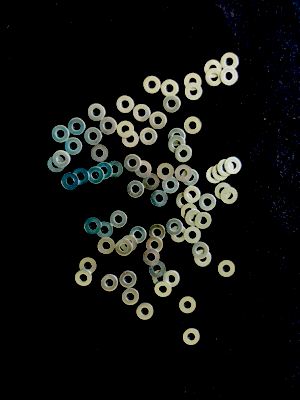circle: (217, 258, 237, 280), (135, 302, 157, 321), (182, 328, 202, 348), (219, 67, 240, 86), (122, 287, 141, 307), (119, 270, 138, 290), (79, 255, 98, 275), (181, 168, 201, 187), (184, 116, 203, 136), (90, 144, 109, 164), (178, 295, 196, 316), (190, 241, 209, 260), (83, 217, 102, 236), (134, 160, 153, 179), (95, 162, 114, 181), (67, 117, 86, 136), (87, 103, 106, 122), (99, 117, 118, 136), (153, 281, 173, 299), (175, 192, 195, 210), (206, 164, 224, 184), (157, 162, 175, 182), (72, 167, 90, 187), (175, 144, 193, 164), (161, 79, 179, 99), (142, 76, 160, 96), (203, 60, 223, 78), (100, 274, 119, 292), (74, 269, 92, 288), (162, 270, 181, 288), (148, 261, 167, 279), (194, 250, 212, 269), (184, 226, 202, 245), (97, 237, 116, 255), (95, 222, 114, 240), (129, 226, 147, 245), (109, 211, 128, 229), (150, 190, 168, 209), (143, 173, 161, 192), (123, 154, 141, 173), (106, 160, 124, 179), (52, 151, 71, 169), (51, 125, 70, 143), (85, 127, 103, 146), (122, 130, 141, 148), (139, 128, 158, 146), (133, 103, 152, 121), (163, 96, 182, 114), (220, 52, 239, 70), (218, 157, 235, 177), (167, 128, 187, 145), (62, 171, 78, 192), (147, 224, 165, 242), (185, 209, 203, 227), (47, 156, 65, 174), (117, 95, 135, 113), (149, 112, 167, 130), (185, 83, 203, 101), (183, 73, 201, 91), (145, 237, 164, 254), (214, 183, 233, 200), (162, 176, 179, 195), (86, 166, 103, 185), (168, 137, 187, 154), (66, 137, 83, 156), (205, 68, 222, 87), (151, 270, 169, 287), (142, 250, 160, 267), (171, 226, 188, 244), (165, 219, 183, 236), (181, 203, 198, 221), (199, 194, 216, 212), (221, 188, 239, 205), (175, 165, 193, 182), (127, 181, 144, 199), (118, 121, 135, 139), (226, 156, 242, 175), (184, 186, 201, 203), (116, 240, 133, 257), (196, 212, 212, 230), (212, 164, 228, 182), (121, 235, 137, 252)
